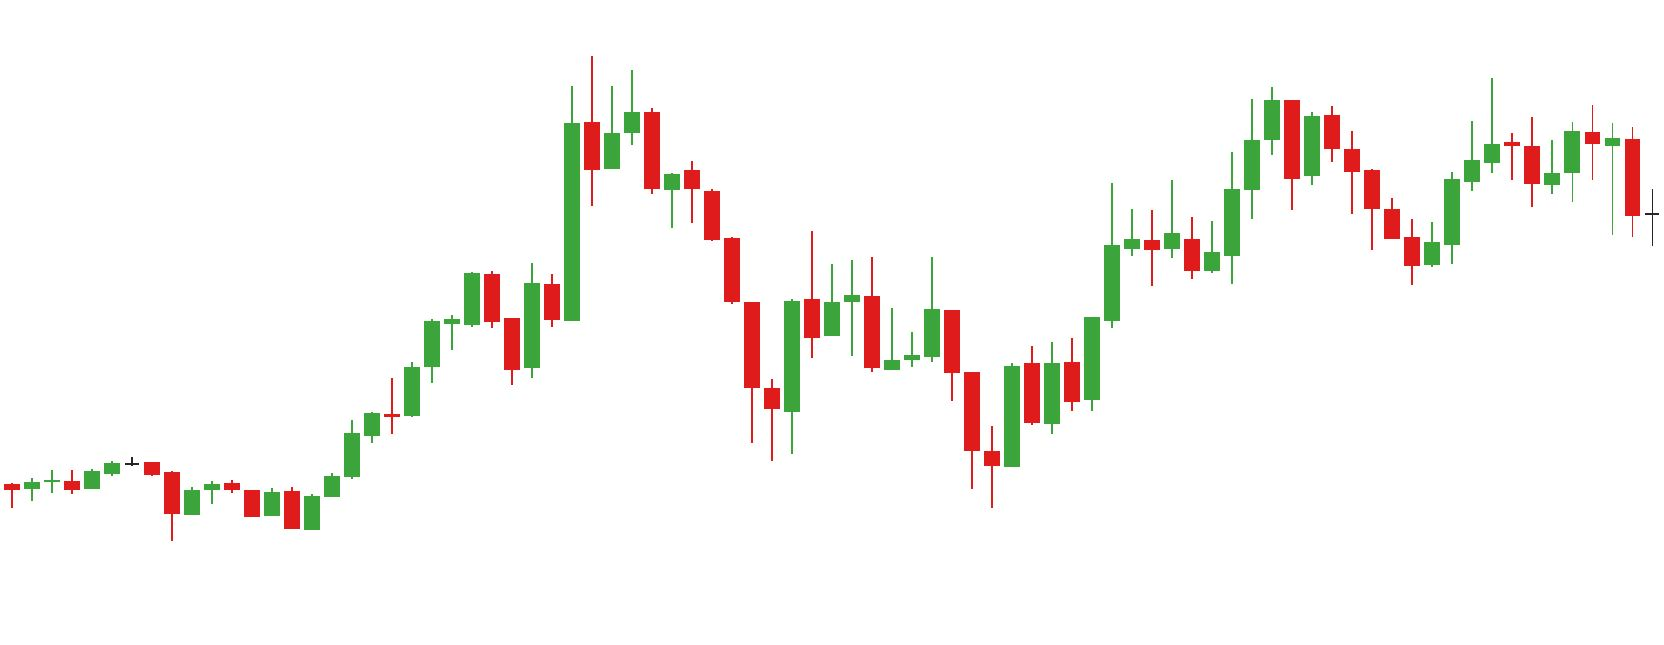buy: (762, 321, 1023, 507), (1199, 169, 1440, 284)
